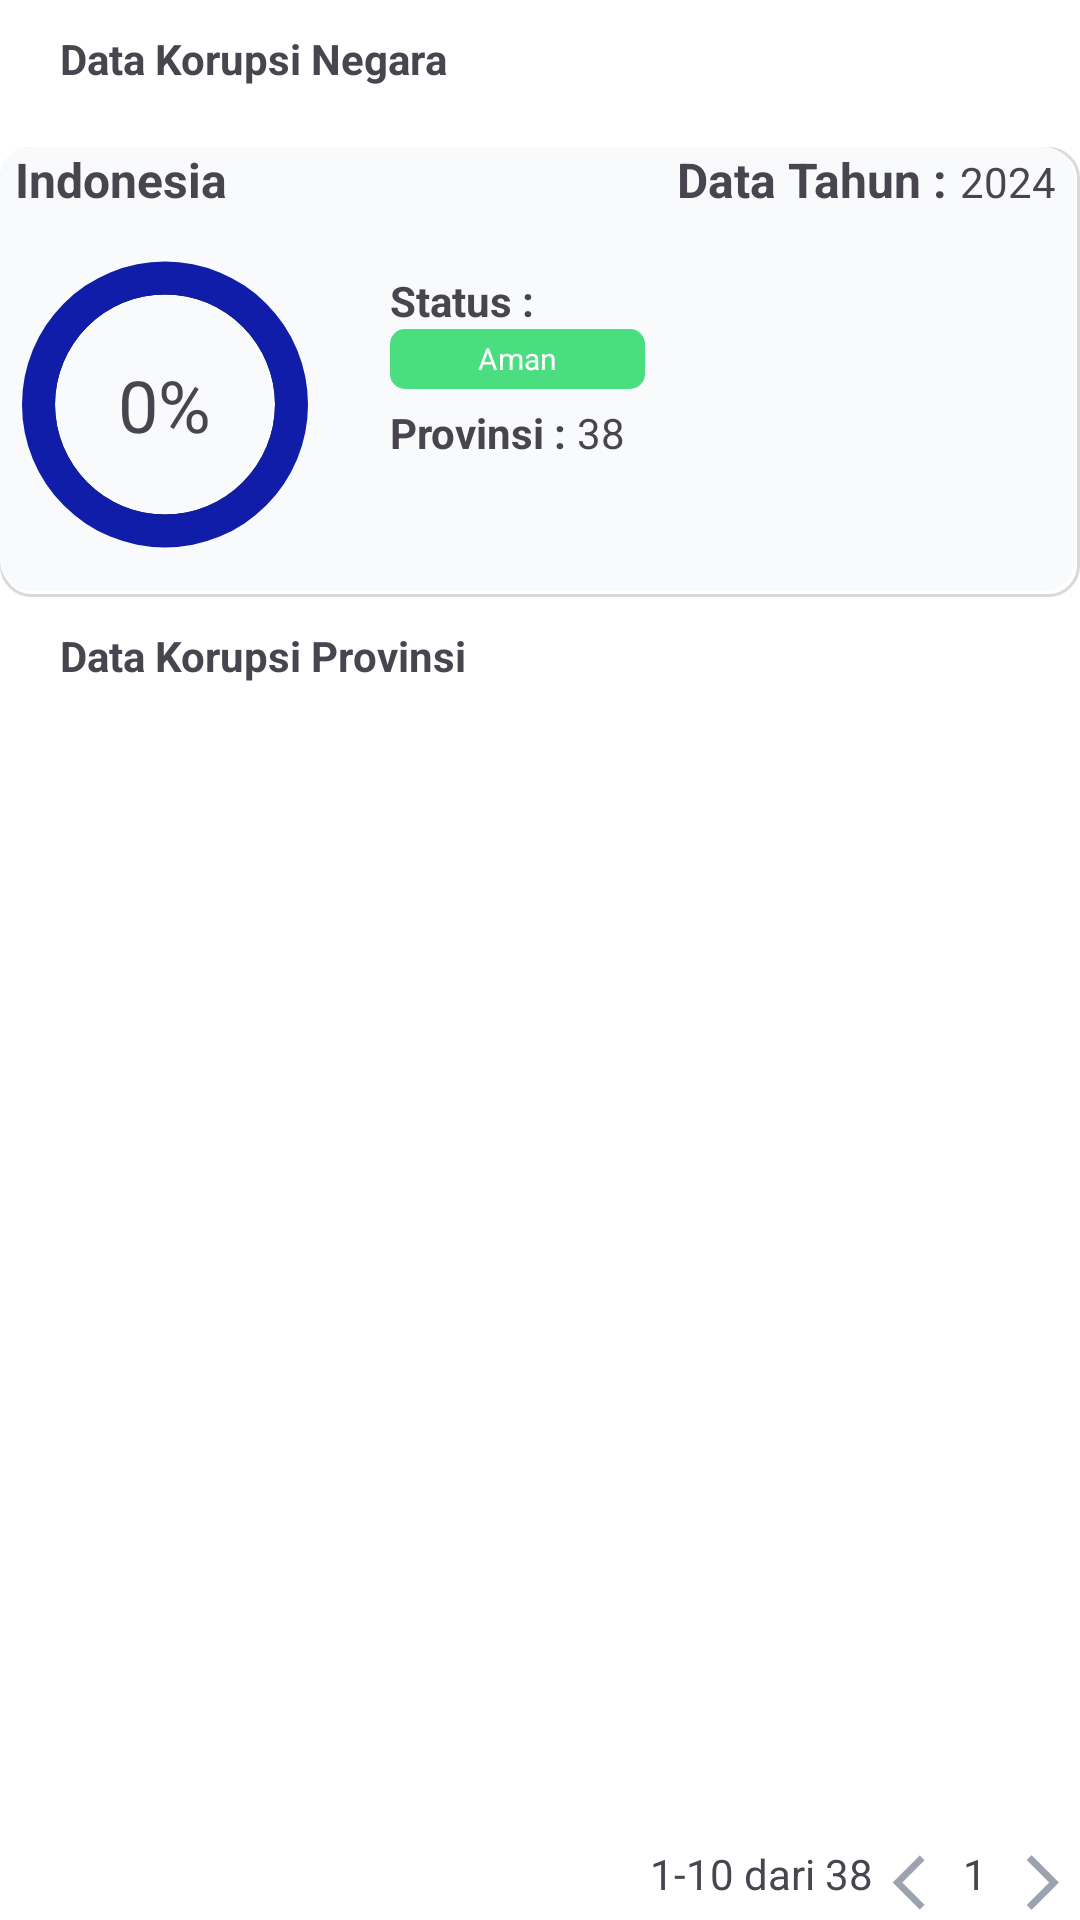

Screen size 1080*1920. Icon name, then its box in pixels as (x1, y1, x2, y2):
next: (1027, 1855, 1059, 1910)
previous: (893, 1855, 925, 1910)
